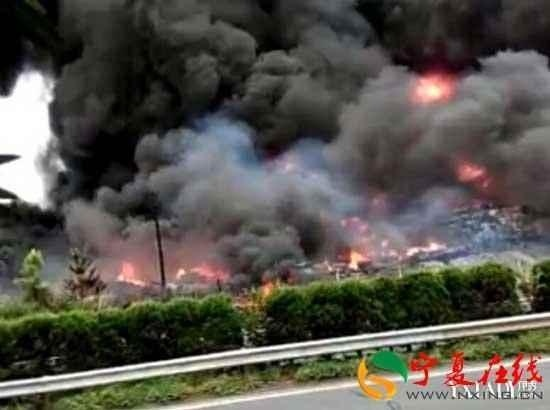fire: (415, 74, 453, 99), (187, 261, 230, 280), (117, 261, 145, 285), (457, 161, 488, 181)
